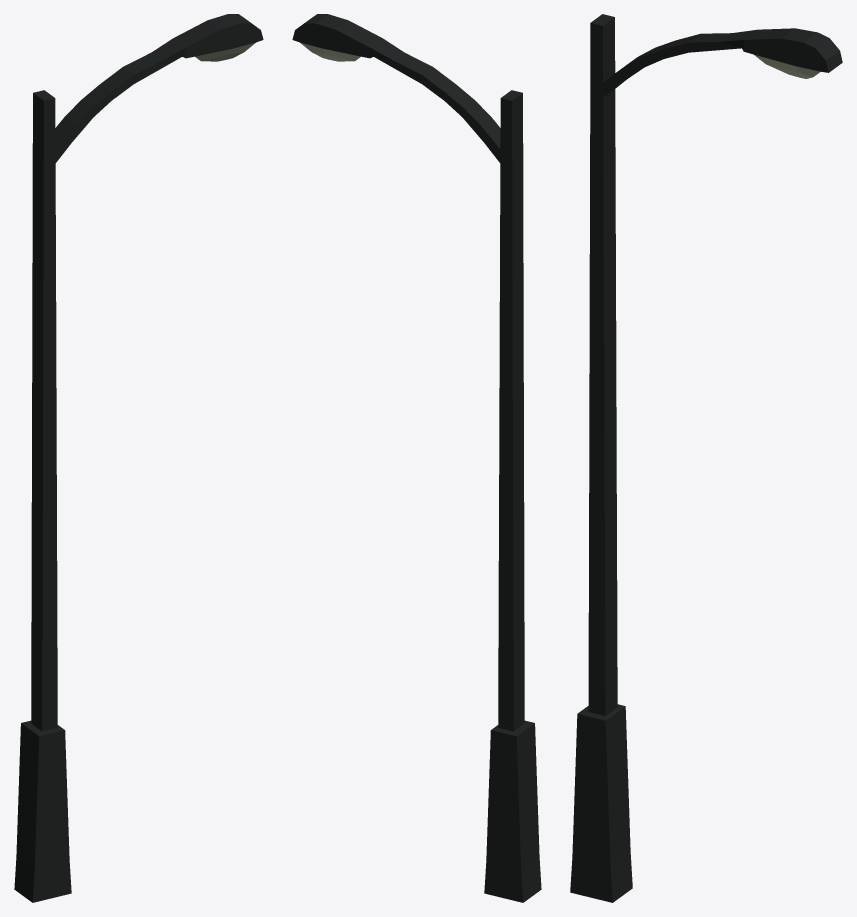
The model's file is Street Light.obj.
The picture shows the model from 3 angles, left to right: view 1: azimuth 30°, elevation 25°; view 2: azimuth 150°, elevation 25°; view 3: azimuth 330°, elevation 25°; orthographic projection. The views are drawn at different scales.
Visible parts, largest first — view 1: Cube; view 2: Cube; view 3: Cube.
Boxes of the visible parts, x1,y1,x2,y2 form: Cube: (14,14,263,902); Cube: (292,14,541,902); Cube: (570,14,842,902).
Bounding box in the file's own units: 2.96 × 9.99 × 0.4015.
